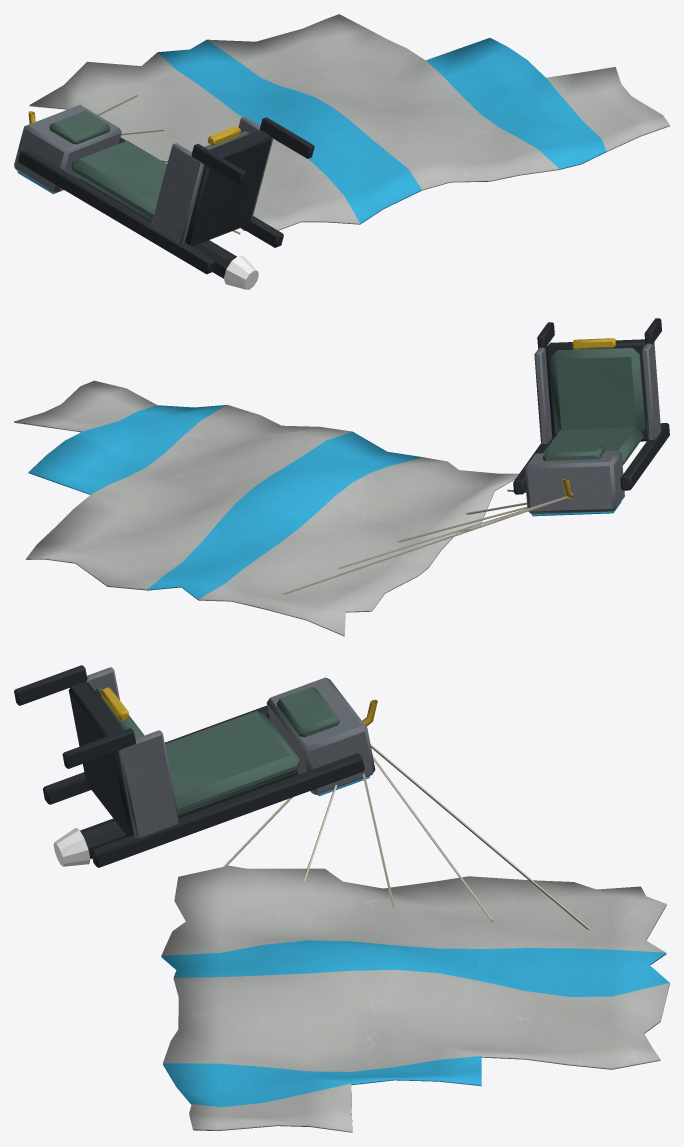
Rendered from seat_ejected.glb.
3 renders of one model, top to bottom at view 1: azimuth 30°, elevation 25°; view 2: azimuth 150°, elevation 25°; view 3: azimuth 270°, elevation 25°, orthographic. The views are drawn at different scales.
Parts seen in each view (by area): view 1: seat_ejected; view 2: seat_ejected; view 3: seat_ejected.
Boxes of the visible parts, x1,y1,x2,y2 form: seat_ejected: (14,14,669,289); seat_ejected: (14,318,669,636); seat_ejected: (14,665,669,1132).
Bounding box in the file's own units: 3.82 × 0.9207 × 3.02.
9 materials, 9 textured.
